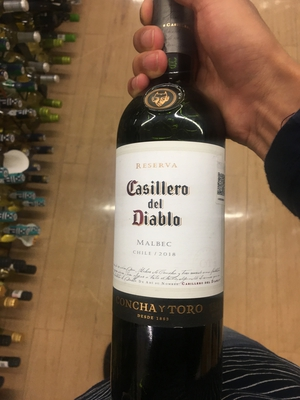casillero del diablo malbec: (108, 17, 242, 400)
